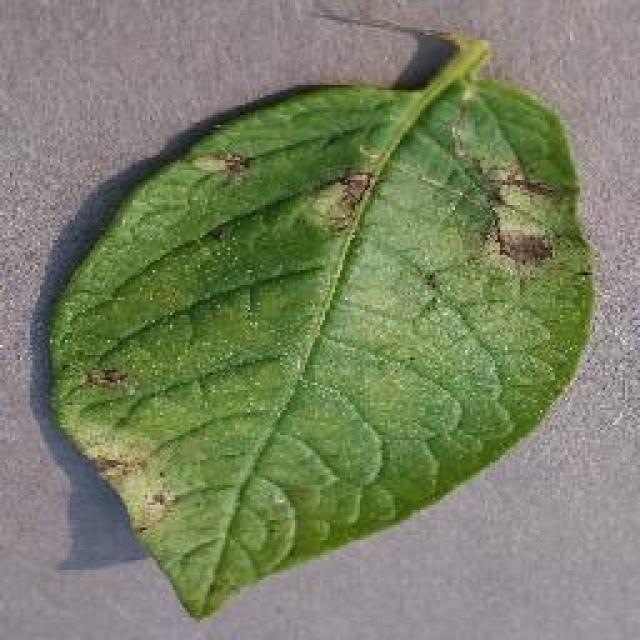Potato___Late_blight: (43, 29, 601, 630)
